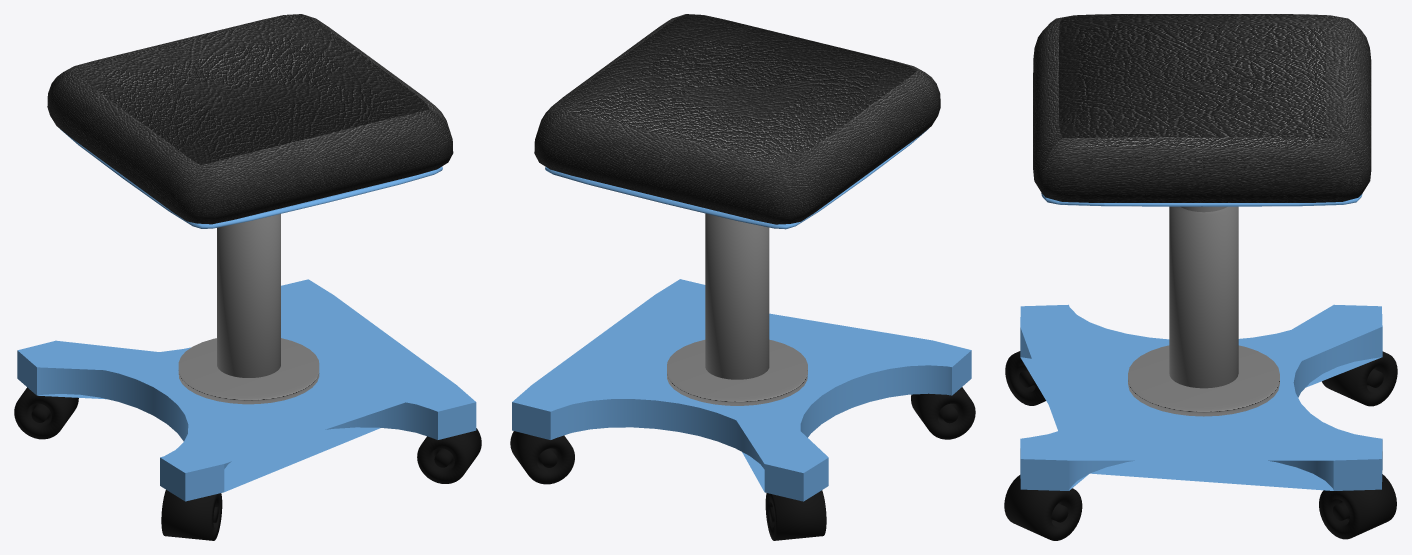
The model's file is chair_tier14.fbx.
3 renders of one model, left to right at view 1: azimuth 30°, elevation 25°; view 2: azimuth 150°, elevation 25°; view 3: azimuth 270°, elevation 25°, orthographic. The views are drawn at different scales.
Parts seen in each view (by area): view 1: Cube, Cube.004, Cylinder.001, Cylinder.002, Cylinder.006, Cylinder.003, Cylinder.004, Cube.003; view 2: Cube, Cube.004, Cylinder.001, Cylinder.002, Cylinder.004, Cylinder.005, Cylinder.006, Cube.003; view 3: Cube, Cube.004, Cylinder.001, Cylinder.002, Cylinder.003, Cylinder.005, Cylinder.004, Cube.003, Cylinder.006.
Part boxes in pixels (x1,y1,x2,y2): Cube: (47,14,453,224); Cube.004: (17,279,476,501); Cylinder.001: (217,214,280,377); Cylinder.002: (178,338,319,404); Cylinder.006: (161,490,222,540); Cylinder.003: (417,428,481,483); Cylinder.004: (14,387,78,439); Cube.003: (59,128,442,228); Cube: (534,14,940,224); Cube.004: (512,279,971,501); Cylinder.001: (705,213,769,379); Cylinder.002: (667,339,807,405); Cylinder.004: (765,490,826,540); Cylinder.005: (510,431,574,484); Cylinder.006: (911,387,975,439); Cube.003: (545,129,928,229); Cube: (1033,14,1371,202); Cube.004: (1020,304,1382,490); Cylinder.001: (1169,206,1238,388); Cylinder.002: (1128,345,1279,416); Cylinder.003: (1004,475,1082,540); Cylinder.005: (1319,474,1396,539); Cylinder.004: (1322,351,1397,406); Cube.003: (1041,193,1362,206); Cylinder.006: (1005,351,1045,405).
Size of the model in its own units: 62.89 by 69.56 by 62.26.
